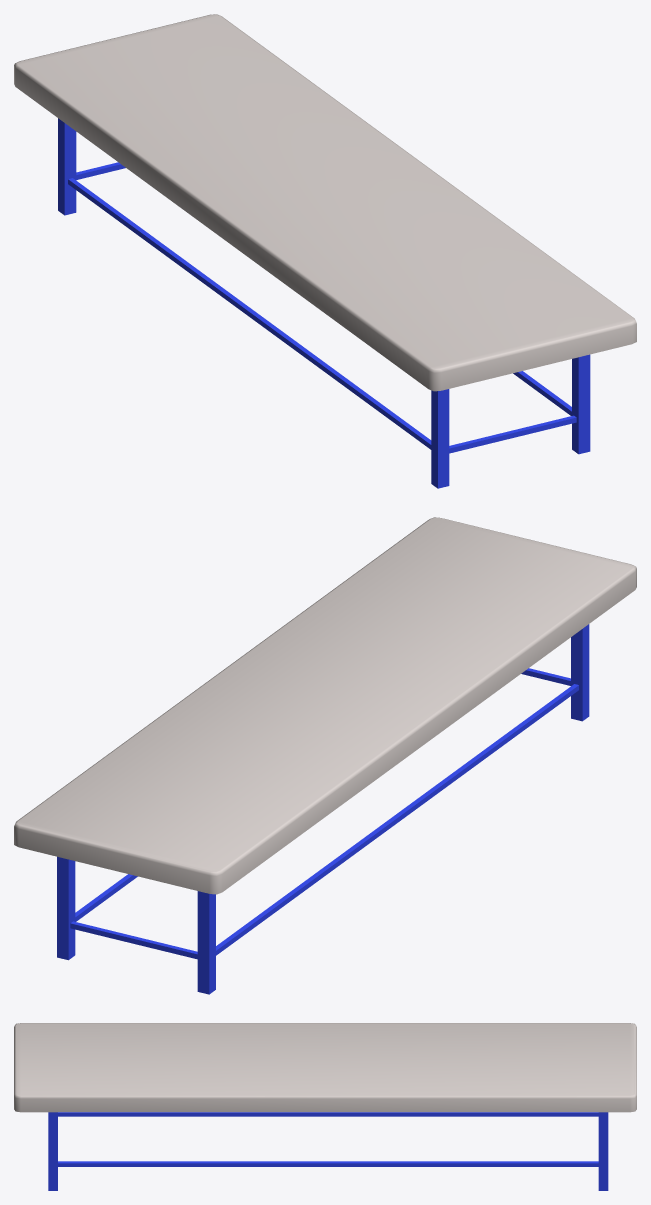
Rendered from ban ghe bang dai.FBX.
The picture shows the model from 3 angles, top to bottom: view 1: azimuth 30°, elevation 25°; view 2: azimuth 150°, elevation 25°; view 3: azimuth 270°, elevation 25°; orthographic projection. The views are drawn at different scales.
Visible parts, largest first — view 1: Object255; view 2: Object255; view 3: Object255.
Part boxes in pixels (left/top/right/bottom): Object255: left=14, top=14, right=636, bottom=488; Object255: left=14, top=517, right=636, bottom=994; Object255: left=14, top=1023, right=636, bottom=1190.
Bounding box in the file's own units: 2.2 × 1.43 × 7.79.
